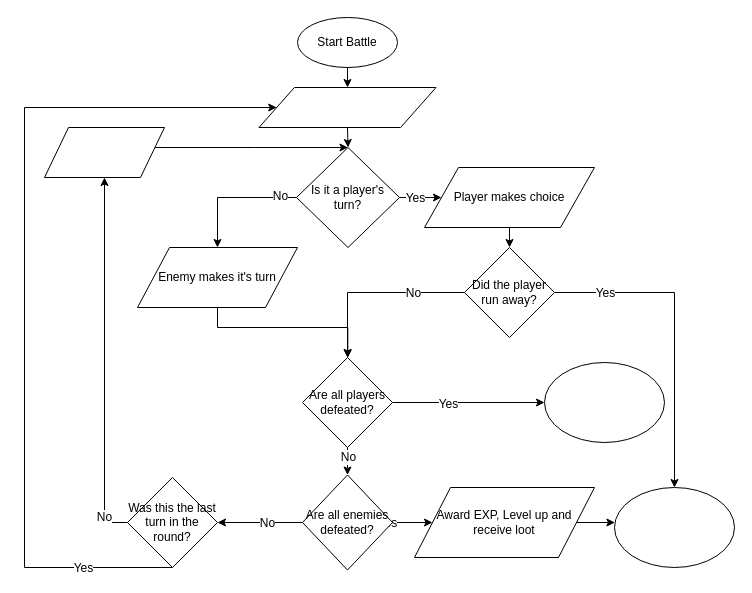
The diagram is 752 pixels wide and 593 high, and some of its shapes have lost their labels. The centre of each missing label's shape, as x and y in pixels:
"END BATTLE" goes at point 674,527.
"END GAME OVER" goes at point 604,402.
"New Round, Determine turn order" goes at point 347,107.
"Next Turn" goes at point 104,152.
